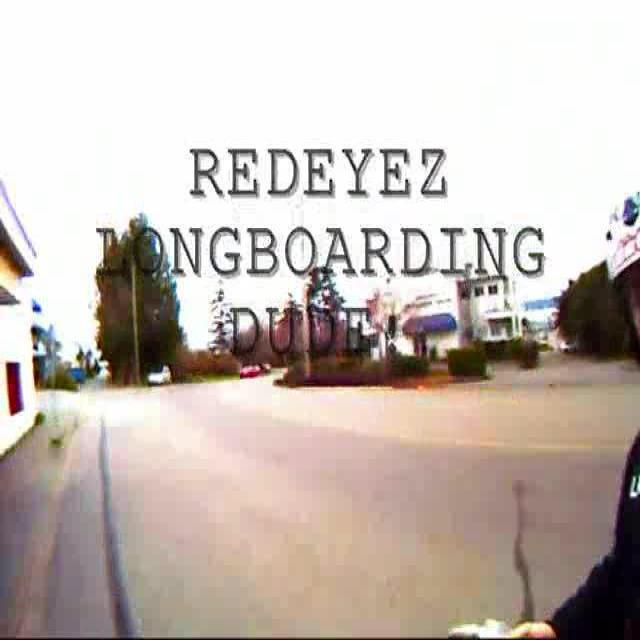other: (38, 371, 284, 437)
